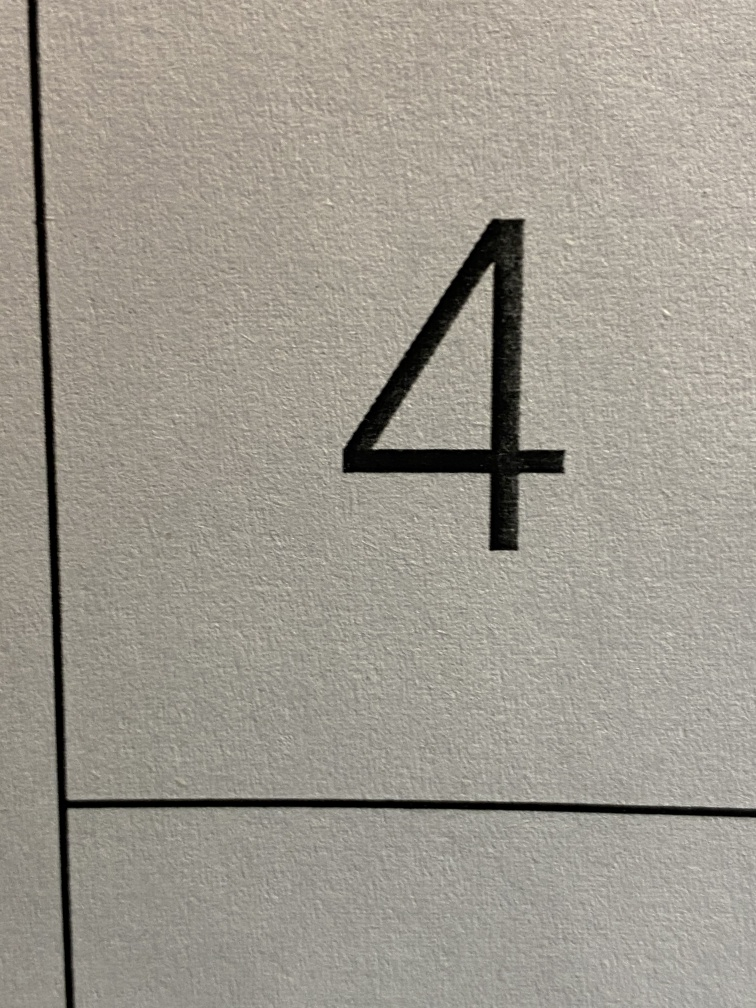four: (315, 176, 648, 599)
